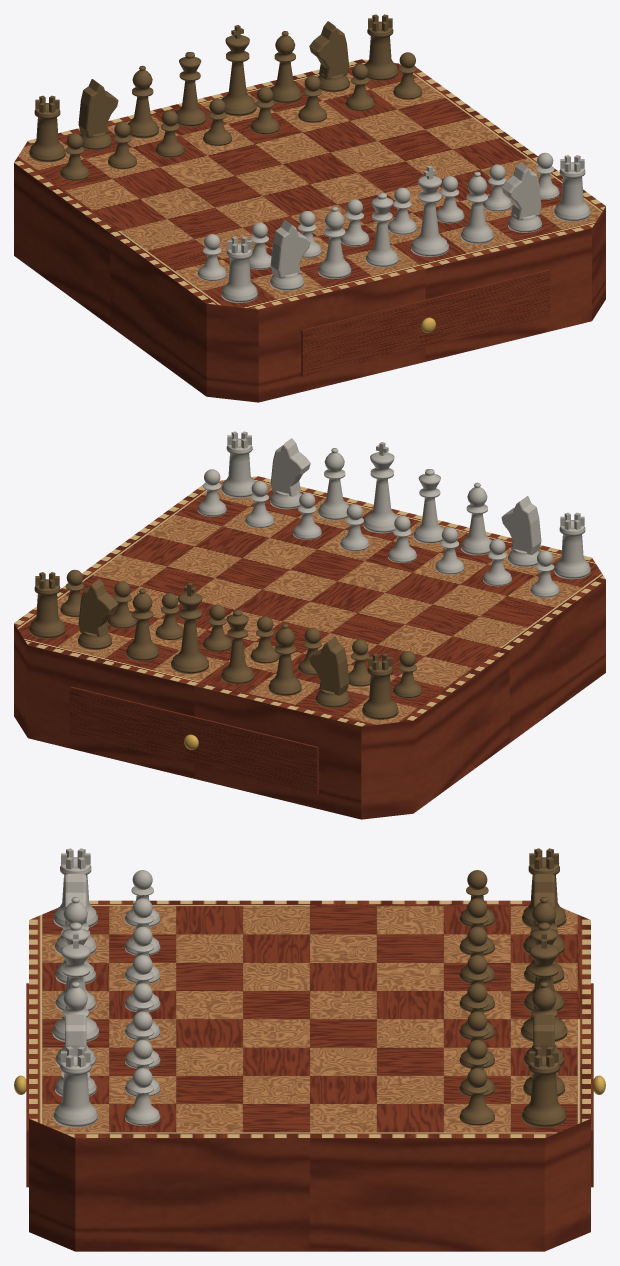
The model's file is philidor-3d-acajou-metal-31-v2.glb.
3 renders of one model, top to bottom at view 1: azimuth 30°, elevation 25°; view 2: azimuth 150°, elevation 25°; view 3: azimuth 270°, elevation 25°, orthographic. The views are drawn at different scales.
Parts seen in each view (by area): view 1: acajou-metal-31; view 2: acajou-metal-31; view 3: acajou-metal-31.
Boxes of the visible parts, x1,y1,x2,y2 form: acajou-metal-31: [14, 14, 605, 402]; acajou-metal-31: [14, 431, 605, 819]; acajou-metal-31: [14, 848, 605, 1251].
Size of what is drawn, in the model's own units: 0.315 by 0.132 by 0.3317.
Materials: 6 (3 with a texture image).
